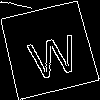W: (23, 25, 82, 81)
